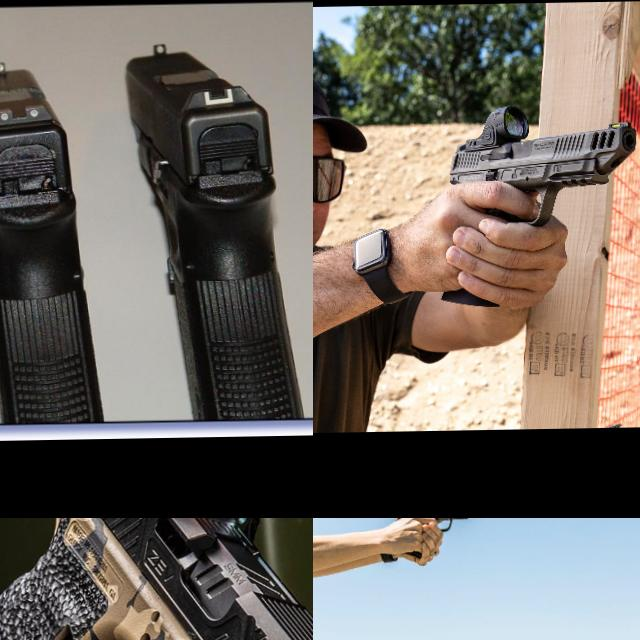handgun: (124, 38, 306, 419), (0, 55, 105, 421), (0, 518, 313, 640), (0, 86, 75, 425), (445, 103, 640, 230), (385, 518, 474, 539)
